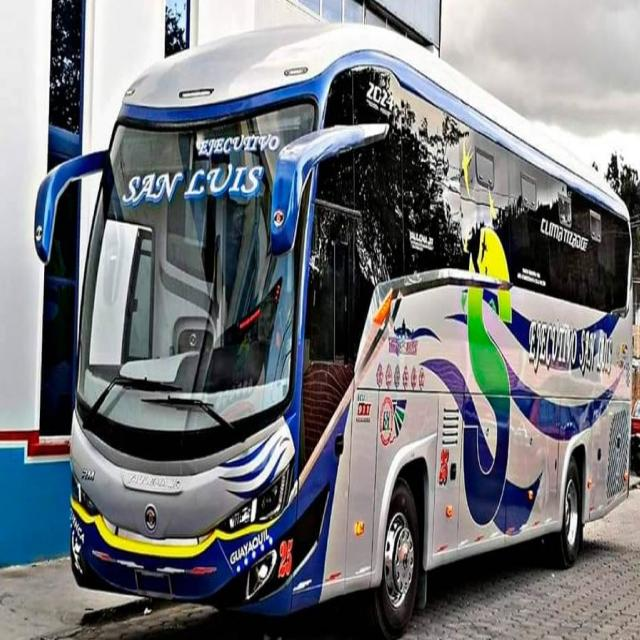BUS: (54, 8, 640, 628)
